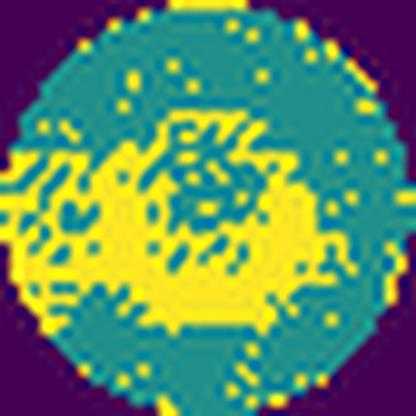Donut: (0, 99, 367, 345)
